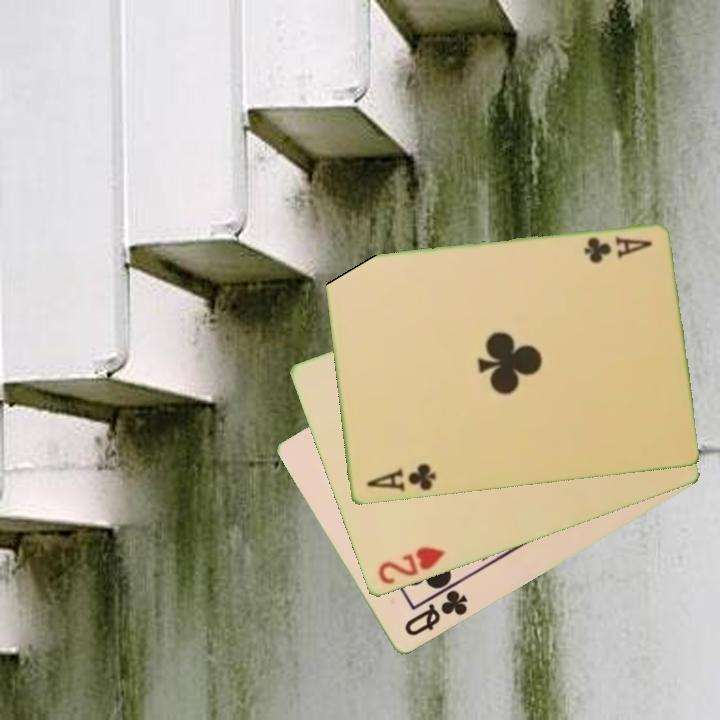2h: (374, 543, 449, 588)
Ac: (363, 460, 438, 495), (579, 233, 655, 267)
Qc: (400, 586, 471, 640)
